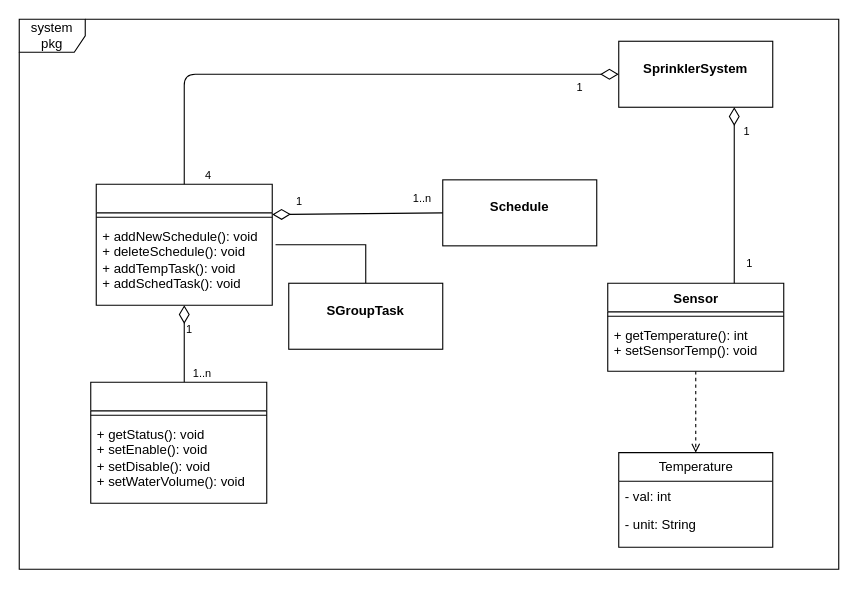
The diagram is 858 pixels wide and 589 high, and some of its shapes have lost their labels. Each missing label, with the box of its shape:
Sprinkler: (90, 381, 267, 503)
SprinklerGroup: (95, 183, 272, 305)
